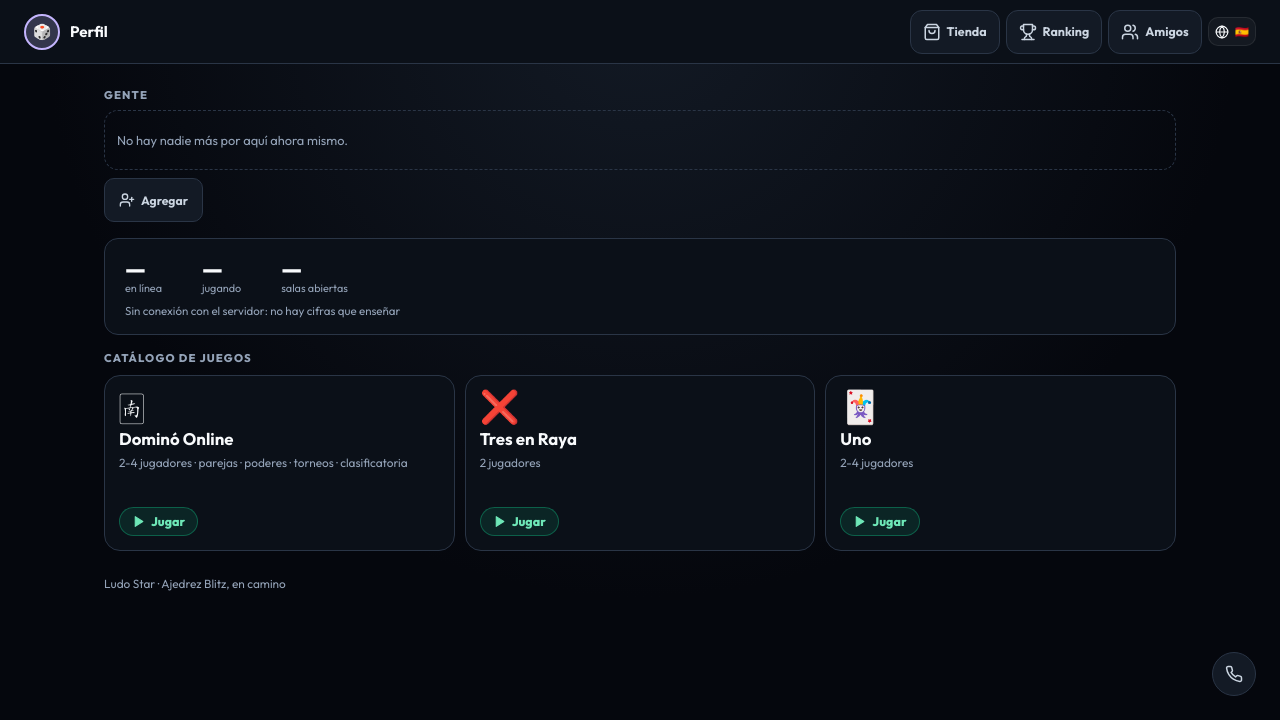
Test: Flujo hub → juego › elegir un juego en el hub deja el lobby DE ESE juego, no el del dominó
Step 1. Click the text "Tres en Raya" → click(528, 439), box [480, 428, 577, 449]
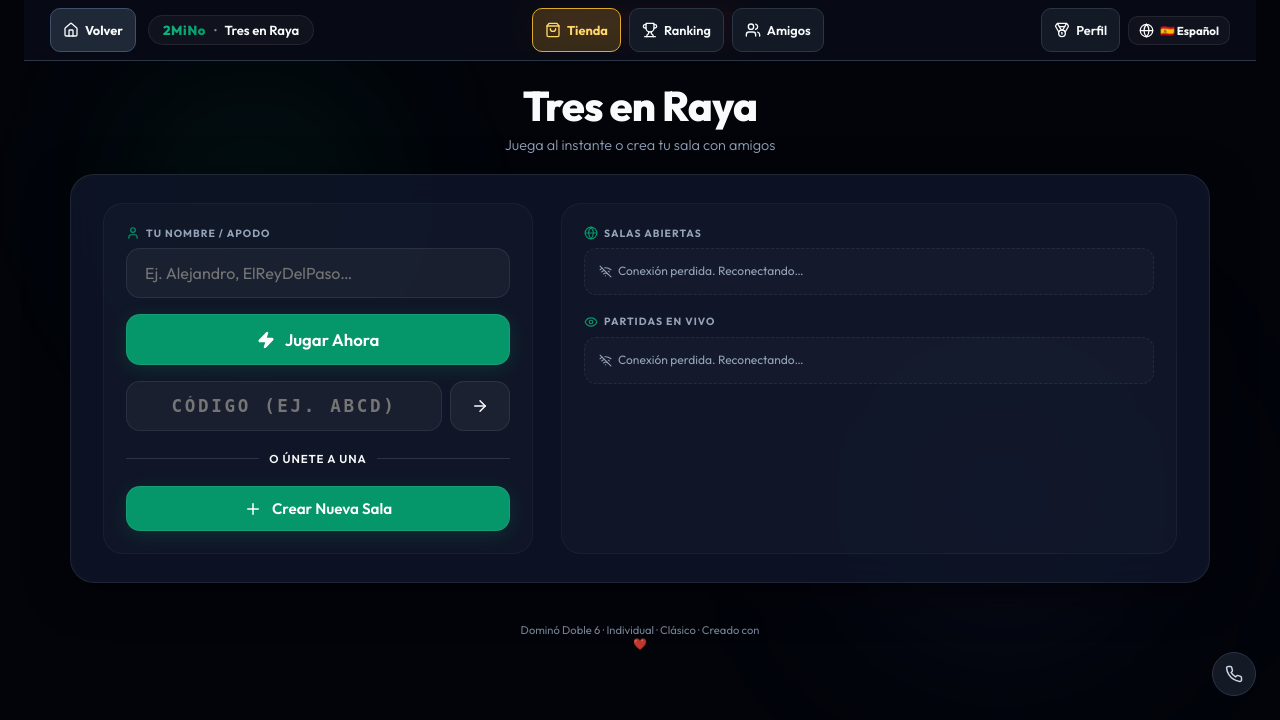
expect the heading "Tres en Raya" is shown: met, box [505, 79, 775, 132]
